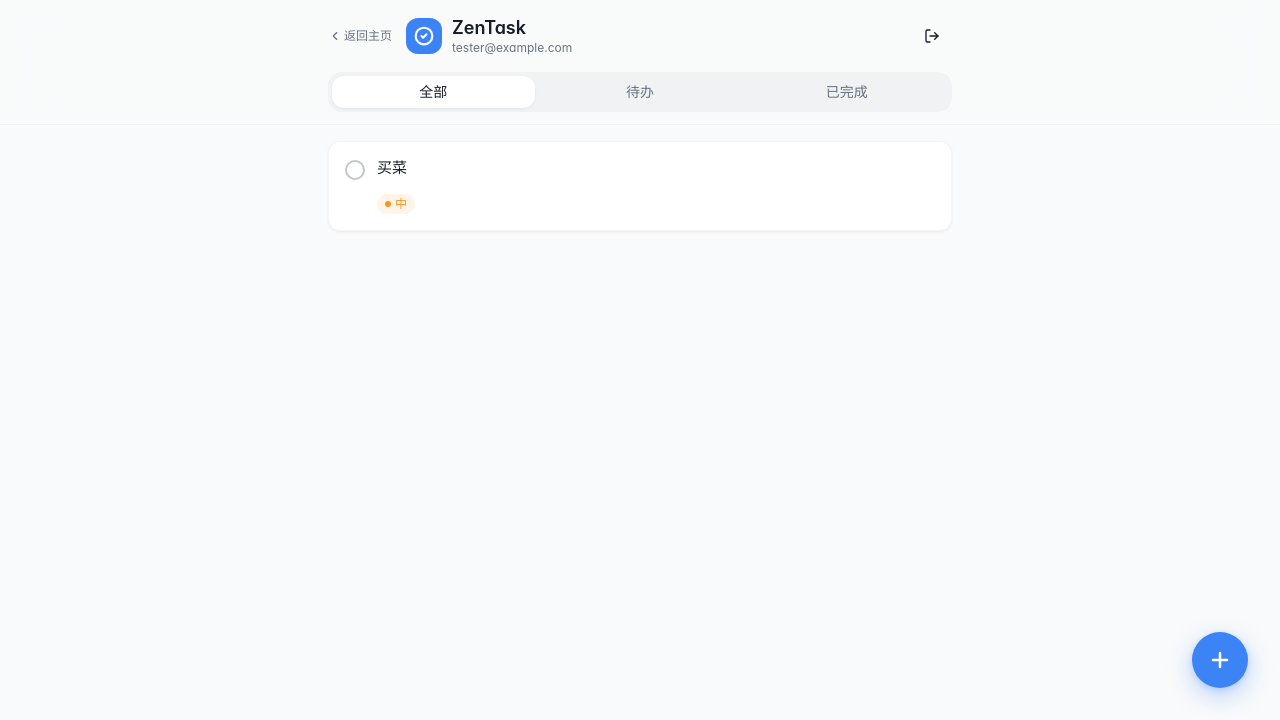
Test: Index (ZenTask) › marks a task complete via update
Step 1. Click the button named "标记为已完成" → (355, 170), box [345, 160, 365, 180]
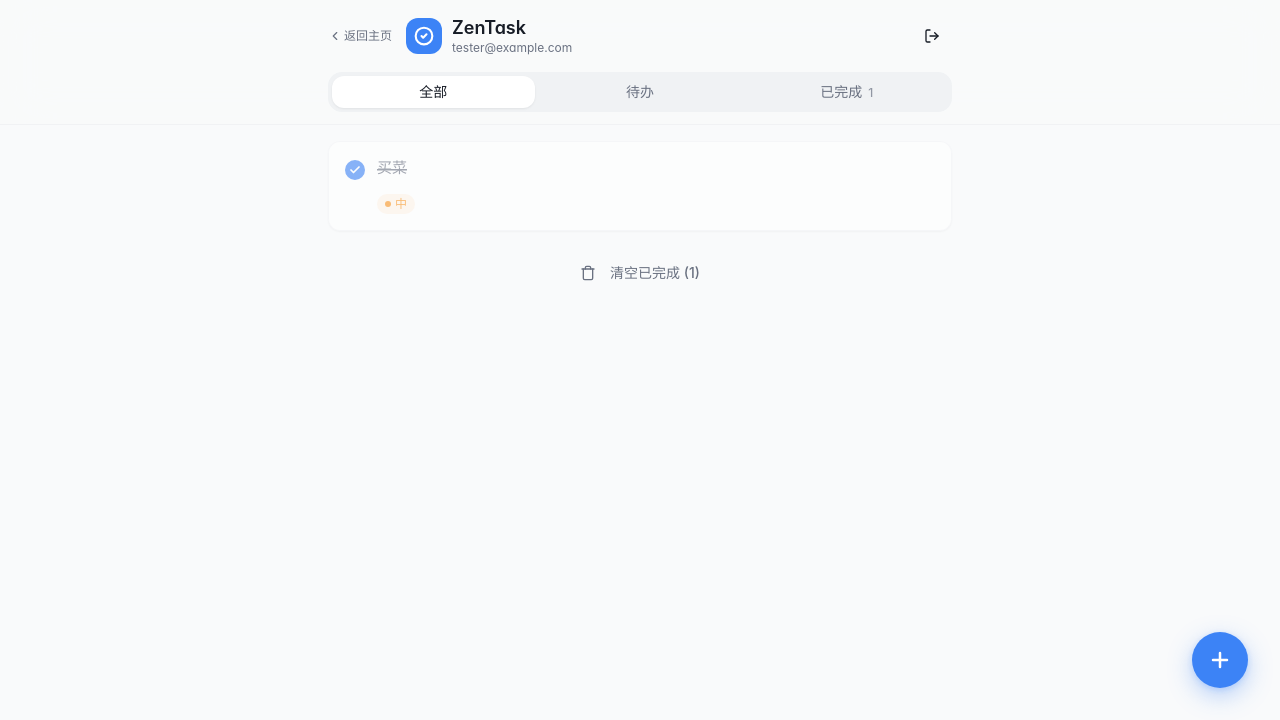
Expected: the button named "标记为未完成" is shown, [345, 160, 365, 180]
